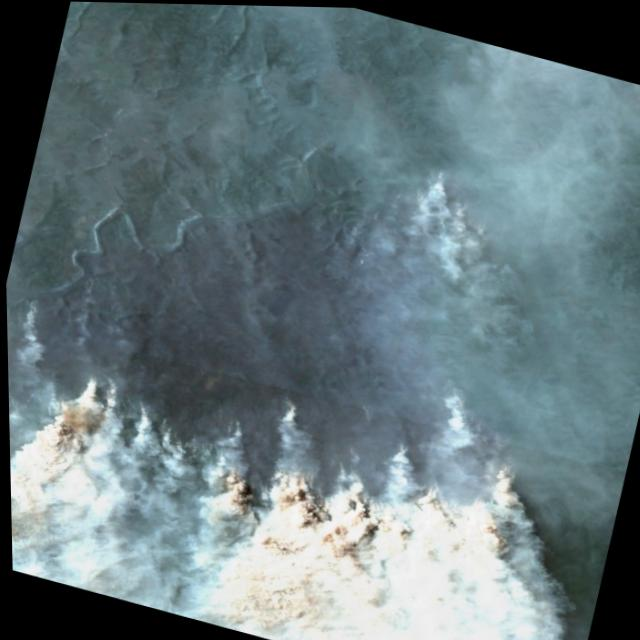fire: (4, 254, 547, 578)
